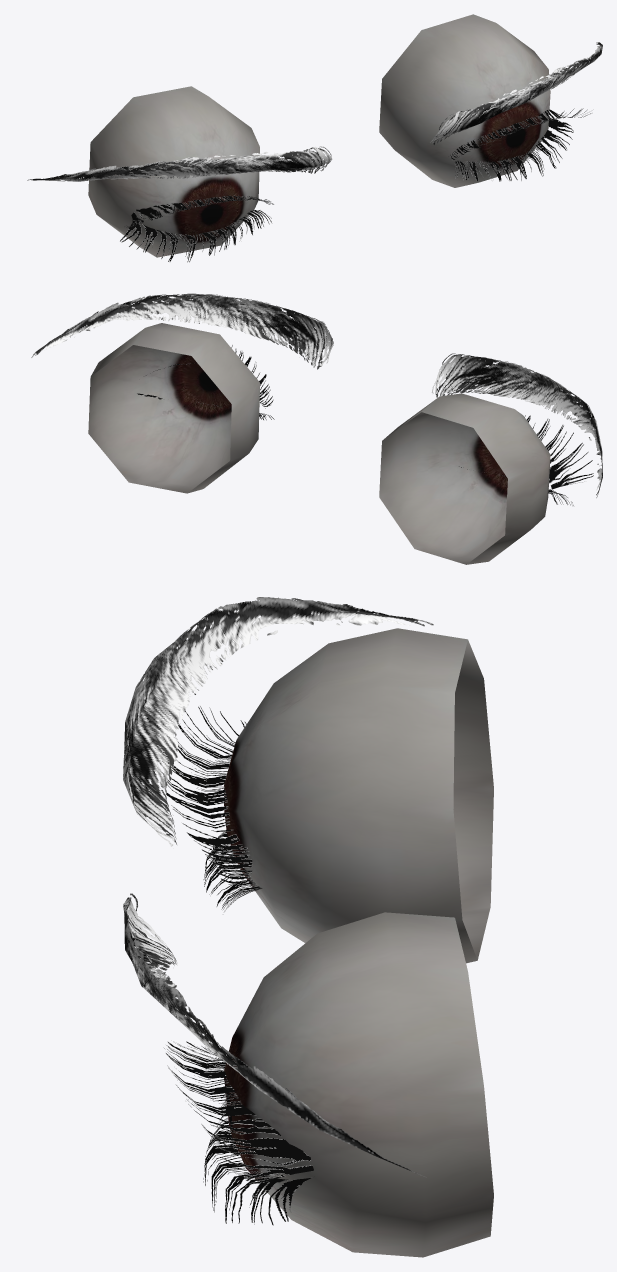
3 renders of one model, top to bottom at view 1: azimuth 30°, elevation 25°; view 2: azimuth 150°, elevation 25°; view 3: azimuth 270°, elevation 25°, orthographic. The views are drawn at different scales.
Visible parts, largest first — view 1: eyes, eyebrows, eyelashes; view 2: eyes, eyebrows, eyelashes; view 3: eyes, eyebrows, eyelashes.
Part boxes in pixels (x1,y1,x2,y2): eyes: (88, 14, 550, 257); eyebrows: (27, 42, 602, 181); eyelashes: (120, 108, 591, 262); eyes: (88, 323, 550, 564); eyebrows: (31, 293, 602, 497); eyelashes: (136, 345, 593, 505); eyes: (224, 628, 493, 1257); eyebrows: (123, 597, 433, 1176); eyelashes: (162, 706, 314, 1225).
Bounding box in the file's own units: 0.1179 × 0.0279 × 0.0326.
Materials: 3 (3 with a texture image).
